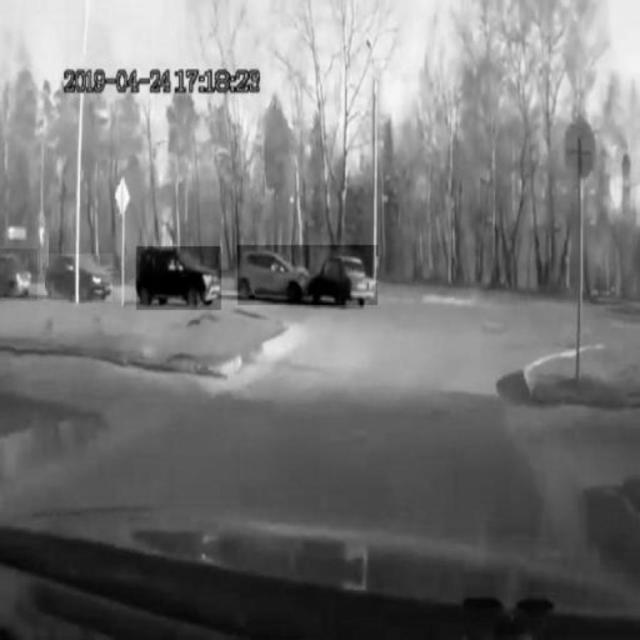accident: (238, 246, 378, 306)
vehicle: (136, 246, 220, 310), (44, 254, 112, 301), (0, 249, 37, 301)
